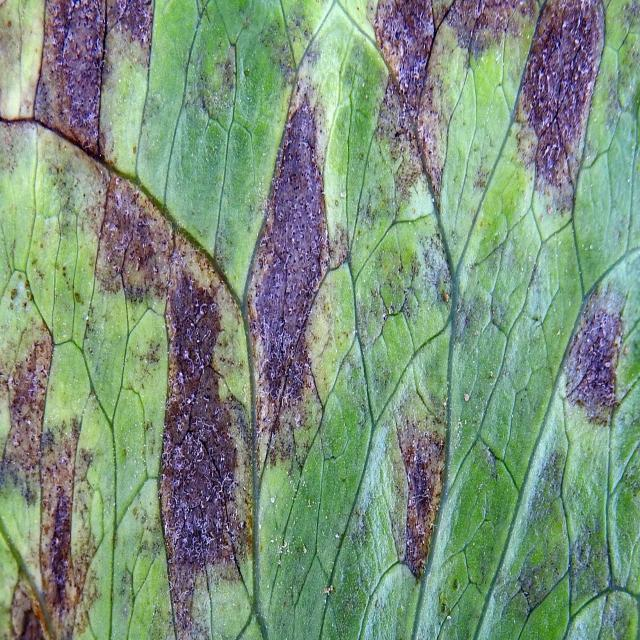Septoria_Blight_on_lettuce: (9, 10, 625, 629)
